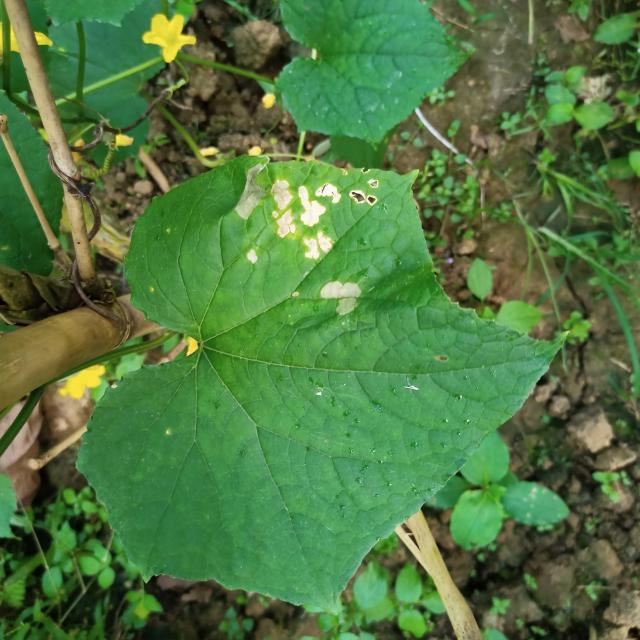disease_cucumber: (235, 161, 380, 266), (318, 276, 362, 318)
